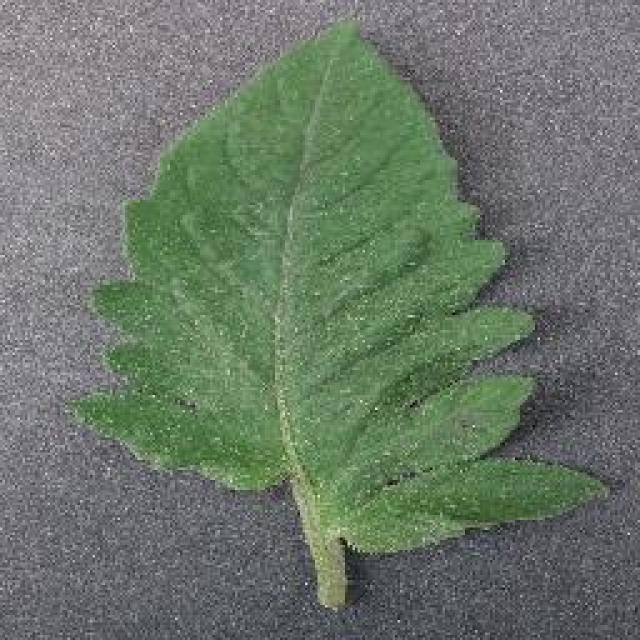Tomato_Healthy: (62, 16, 612, 563)
